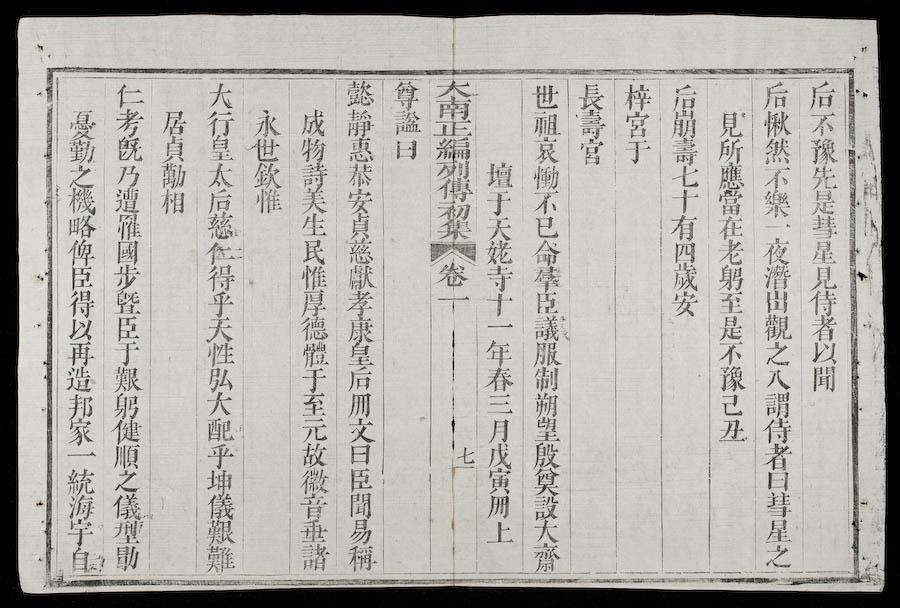c: (65, 106, 98, 139), (435, 260, 471, 289), (805, 79, 838, 110), (760, 189, 794, 219), (620, 82, 654, 111), (343, 78, 377, 107), (528, 543, 563, 571), (202, 545, 238, 572), (432, 138, 472, 162), (297, 542, 330, 571), (343, 108, 376, 137), (63, 466, 97, 494), (203, 81, 237, 109), (434, 178, 473, 202), (251, 107, 282, 137), (484, 160, 516, 189), (761, 313, 794, 341), (110, 543, 143, 571), (529, 467, 562, 495), (760, 236, 793, 264), (575, 110, 608, 138), (204, 263, 237, 291), (64, 418, 97, 446), (204, 212, 237, 240), (64, 187, 98, 214), (109, 365, 143, 392), (203, 109, 237, 136), (111, 82, 146, 108), (433, 99, 474, 121), (576, 81, 607, 110), (390, 80, 421, 109), (715, 109, 746, 138), (66, 545, 98, 573), (716, 364, 748, 392), (808, 364, 840, 392), (529, 82, 561, 110), (761, 81, 793, 109), (760, 390, 793, 417), (529, 442, 562, 469), (483, 366, 516, 393), (297, 187, 330, 214), (110, 492, 143, 519), (806, 137, 839, 164), (760, 110, 793, 137), (204, 492, 237, 519), (298, 467, 331, 494), (112, 108, 145, 135), (344, 544, 377, 571), (390, 109, 423, 136), (203, 519, 237, 545), (298, 107, 328, 136), (159, 107, 189, 136), (669, 263, 700, 291), (669, 110, 700, 138), (669, 83, 700, 111), (808, 314, 840, 341), (65, 289, 97, 316), (529, 111, 561, 138), (668, 214, 700, 241), (251, 162, 283, 189), (63, 365, 95, 392), (761, 137, 793, 164), (204, 162, 236, 189), (344, 316, 376, 343), (483, 338, 515, 365), (204, 315, 236, 342), (110, 289, 143, 315), (760, 417, 793, 443), (762, 543, 795, 569), (530, 315, 563, 341), (109, 418, 143, 443), (763, 490, 794, 517), (64, 518, 95, 545), (715, 163, 746, 190), (715, 264, 746, 291), (111, 186, 142, 213), (113, 135, 144, 162), (621, 112, 652, 139), (669, 138, 700, 165), (112, 213, 143, 240), (669, 291, 700, 318), (435, 219, 473, 241), (204, 136, 236, 162), (716, 417, 748, 443), (110, 263, 142, 289), (530, 416, 562, 442), (484, 520, 516, 546), (531, 341, 563, 367), (298, 341, 330, 367), (621, 139, 653, 165), (65, 238, 97, 264), (110, 443, 142, 469), (110, 392, 142, 418), (530, 239, 562, 265), (64, 392, 96, 418), (344, 290, 376, 316), (530, 366, 562, 392), (252, 188, 284, 214), (297, 494, 330, 519), (761, 443, 794, 468), (529, 495, 562, 520), (530, 266, 563, 291), (716, 314, 746, 341), (345, 517, 375, 544), (576, 139, 606, 166), (298, 289, 328, 316), (298, 393, 329, 419), (157, 189, 188, 215), (763, 517, 794, 543), (111, 315, 142, 341), (298, 264, 329, 290), (530, 138, 561, 164), (345, 264, 376, 290), (715, 239, 746, 265), (298, 162, 329, 188), (484, 265, 515, 291), (715, 190, 746, 216), (345, 137, 376, 163), (530, 391, 561, 417), (345, 417, 376, 443), (808, 264, 839, 290), (530, 165, 561, 191), (109, 519, 144, 542), (530, 290, 562, 315), (806, 111, 838, 136), (669, 188, 701, 213), (433, 79, 473, 99), (808, 214, 840, 239), (808, 189, 840, 214), (203, 391, 235, 416), (204, 417, 236, 442), (298, 316, 330, 341), (204, 341, 236, 366), (298, 442, 330, 467), (807, 290, 839, 315), (297, 519, 330, 543), (65, 139, 98, 163), (249, 137, 282, 161), (345, 188, 374, 215), (158, 163, 188, 189), (484, 190, 514, 216), (761, 341, 792, 366), (808, 165, 839, 190), (344, 342, 375, 367), (205, 291, 236, 316), (297, 137, 328, 162), (761, 264, 792, 289), (65, 164, 97, 188), (761, 165, 793, 189), (483, 292, 515, 316), (298, 419, 330, 443), (110, 341, 142, 365), (65, 214, 97, 238), (64, 341, 96, 365), (435, 202, 473, 222), (64, 495, 97, 518), (159, 136, 188, 162), (485, 468, 514, 494), (299, 238, 328, 264), (345, 392, 374, 418), (345, 214, 374, 240), (345, 491, 374, 517), (484, 494, 514, 519), (66, 265, 96, 290), (484, 216, 514, 241), (715, 138, 745, 163), (484, 240, 514, 265), (205, 443, 235, 468), (531, 215, 561, 240), (299, 368, 329, 393), (345, 367, 375, 392), (345, 163, 375, 188), (204, 468, 235, 492), (808, 239, 839, 263), (530, 519, 561, 543), (435, 160, 472, 180), (432, 120, 473, 138), (484, 393, 516, 416), (204, 241, 236, 264), (485, 417, 513, 443), (485, 443, 514, 468), (717, 392, 746, 417), (112, 239, 141, 264), (809, 340, 839, 364), (762, 289, 792, 313), (299, 213, 329, 237), (205, 189, 235, 213), (391, 137, 421, 161), (65, 317, 96, 340), (670, 165, 701, 188), (715, 216, 746, 239), (715, 291, 746, 314), (346, 466, 374, 491), (205, 367, 234, 391), (531, 191, 560, 215), (762, 367, 792, 390), (113, 163, 143, 186), (716, 341, 746, 364), (345, 240, 375, 263), (111, 469, 141, 492), (435, 293, 471, 312), (670, 240, 699, 263), (763, 469, 793, 490), (346, 443, 374, 465), (483, 319, 516, 335), (64, 448, 98, 463), (454, 444, 477, 466), (760, 220, 793, 234)
